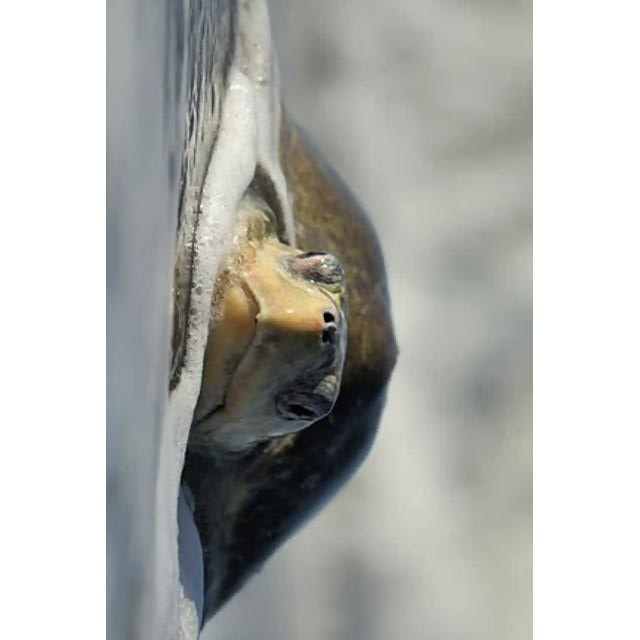turtle: (183, 98, 397, 628)
